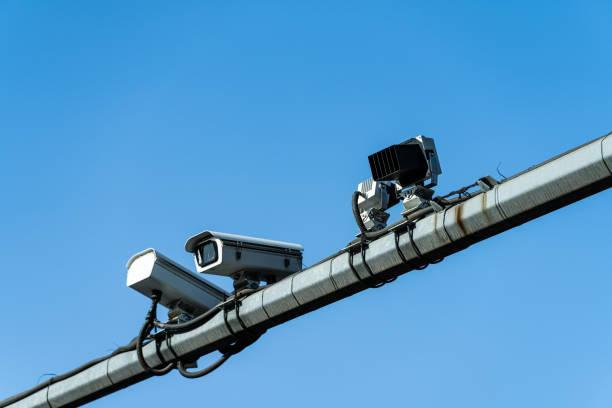camera: (50, 248, 237, 323), (184, 200, 329, 291)
